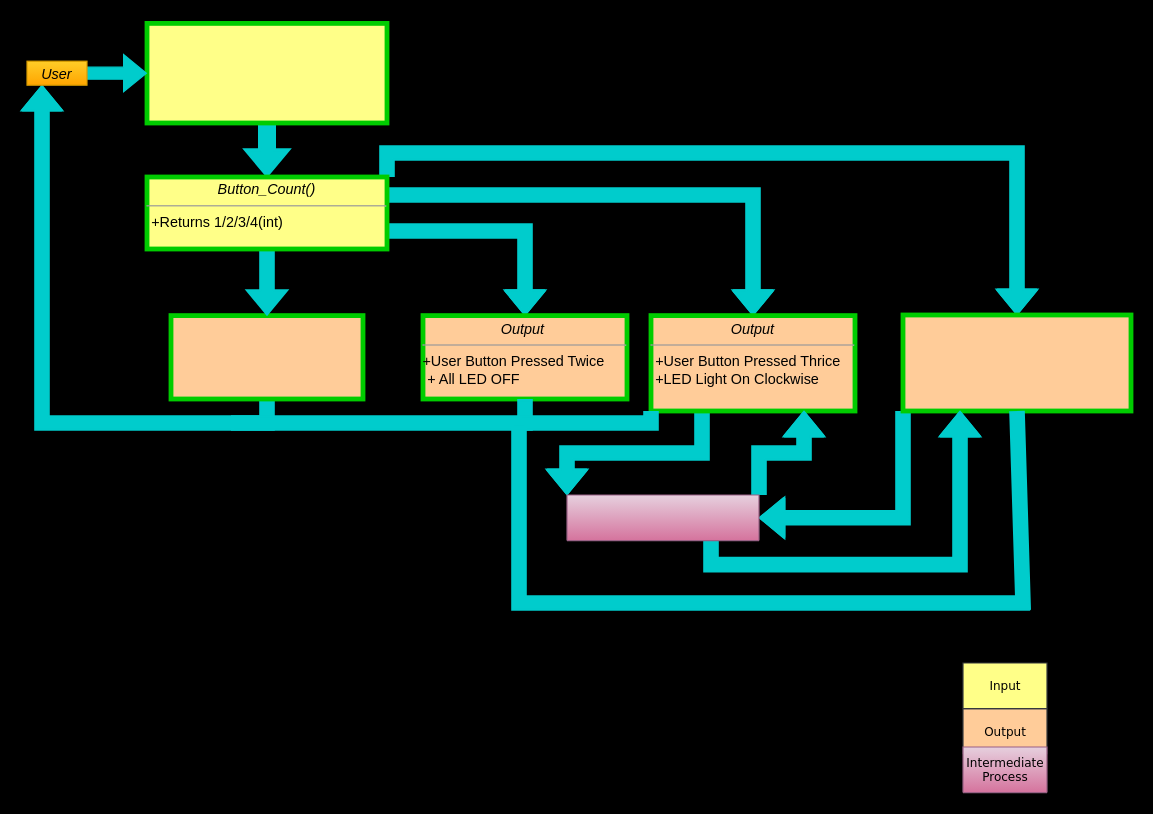
The diagram is 1153 pixels wide and 814 high, and some of its shapes have lost their labels. Here are the shapes that lost their labels. From the top down, the centre of each, then its label:
At point 266,72: "Input Main Interface(Button_init()) +Press a Button on Controller".
At point 266,357: "Output +User Button Pressed Once + All LED ON".
At point 1016,362: "Output +User Button Pressed Four times +LED Light On AntiClockwise".
At point 662,517: "My_Delay()".
